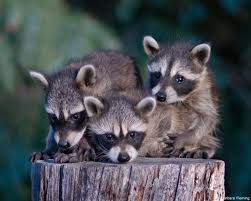raccoon: (144, 31, 219, 159), (35, 53, 89, 162), (81, 86, 155, 164)
